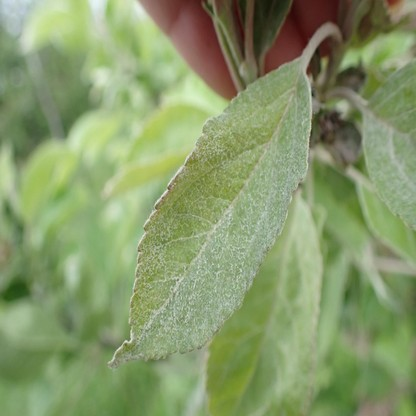powdery_mildew: (107, 62, 310, 366), (364, 60, 416, 231)
